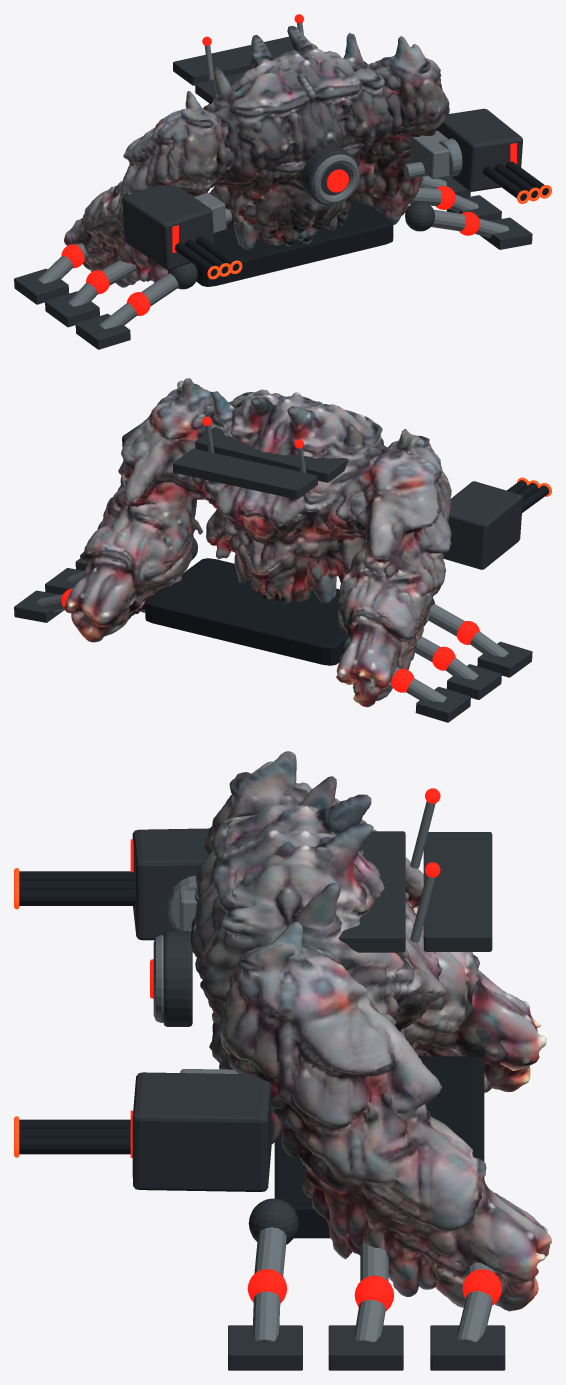
File: leviathan-triposr-enhanced.glb
3 views of the same model, one above another, from view 1: azimuth 30°, elevation 25°; view 2: azimuth 150°, elevation 25°; view 3: azimuth 270°, elevation 25° (orthographic). The views are drawn at different scales.
Parts seen in each view (by area): view 1: Leviathan.ScanShell, Chassis.Spine, Weapon.Pod, Weapon.Pod.001, Dorsal.Plate.002, Weapon.Mount.001, Sensor.Housing, Sensor.Guard, Leg.Foot, Leg.Foot.002, Leg.Foot.001, Leg.Foot.003 (+20 smaller); view 2: Leviathan.ScanShell, Chassis.Spine, Weapon.Pod, Dorsal.Plate.002, Dorsal.Plate.001, Leg.Foot.002, Leg.Foot, Leg.Foot.001, Leg.Foot.005, Leg.Upper, Leg.Foot.004, Leg.Lower.002 (+1 smaller); view 3: Leviathan.ScanShell, Weapon.Pod.001, Dorsal.Plate.002, Chassis.Spine, Weapon.Pod, Dorsal.Plate.001, Leg.Foot.005, Leg.Foot.004, Leg.Foot.003, Sensor.Housing, Weapon.Barrel.005, Weapon.Barrel.002 (+14 smaller).
Boxes of the visible parts, bbox=[...] form: Leviathan.ScanShell: bbox=[64, 26, 449, 287]; Chassis.Spine: bbox=[195, 200, 393, 286]; Weapon.Pod: bbox=[122, 185, 214, 269]; Weapon.Pod.001: bbox=[436, 108, 522, 191]; Dorsal.Plate.002: bbox=[173, 36, 294, 85]; Weapon.Mount.001: bbox=[410, 130, 449, 178]; Sensor.Housing: bbox=[302, 146, 359, 205]; Sensor.Guard: bbox=[312, 154, 359, 204]; Leg.Foot: bbox=[75, 313, 130, 349]; Leg.Foot.002: bbox=[14, 268, 69, 304]; Leg.Foot.001: bbox=[45, 291, 99, 327]; Leg.Foot.003: bbox=[480, 217, 532, 249]; Leviathan.ScanShell: bbox=[64, 378, 451, 707]; Chassis.Spine: bbox=[145, 558, 347, 665]; Weapon.Pod: bbox=[443, 481, 522, 569]; Dorsal.Plate.002: bbox=[173, 448, 317, 499]; Dorsal.Plate.001: bbox=[195, 427, 348, 482]; Leg.Foot.002: bbox=[415, 687, 470, 722]; Leg.Foot: bbox=[477, 641, 532, 677]; Leg.Foot.001: bbox=[446, 664, 501, 699]; Leg.Foot.005: bbox=[14, 590, 63, 622]; Leg.Upper: bbox=[428, 604, 464, 636]; Leg.Foot.004: bbox=[45, 568, 83, 594]; Leg.Lower.002: bbox=[406, 678, 446, 702]; Leviathan.ScanShell: bbox=[190, 751, 551, 1311]; Weapon.Pod.001: bbox=[132, 1072, 271, 1191]; Dorsal.Plate.002: bbox=[423, 832, 492, 951]; Chassis.Spine: bbox=[274, 1056, 484, 1238]; Weapon.Pod: bbox=[132, 828, 209, 940]; Dorsal.Plate.001: bbox=[338, 831, 405, 952]; Leg.Foot.005: bbox=[430, 1325, 505, 1370]; Leg.Foot.004: bbox=[328, 1325, 403, 1370]; Leg.Foot.003: bbox=[228, 1325, 302, 1370]; Sensor.Housing: bbox=[163, 931, 192, 1026]; Weapon.Barrel.005: bbox=[19, 1137, 130, 1154]; Weapon.Barrel.002: bbox=[19, 889, 135, 905].
Bounding box in the file's own units: 7.93 × 4.16 × 5.16.
